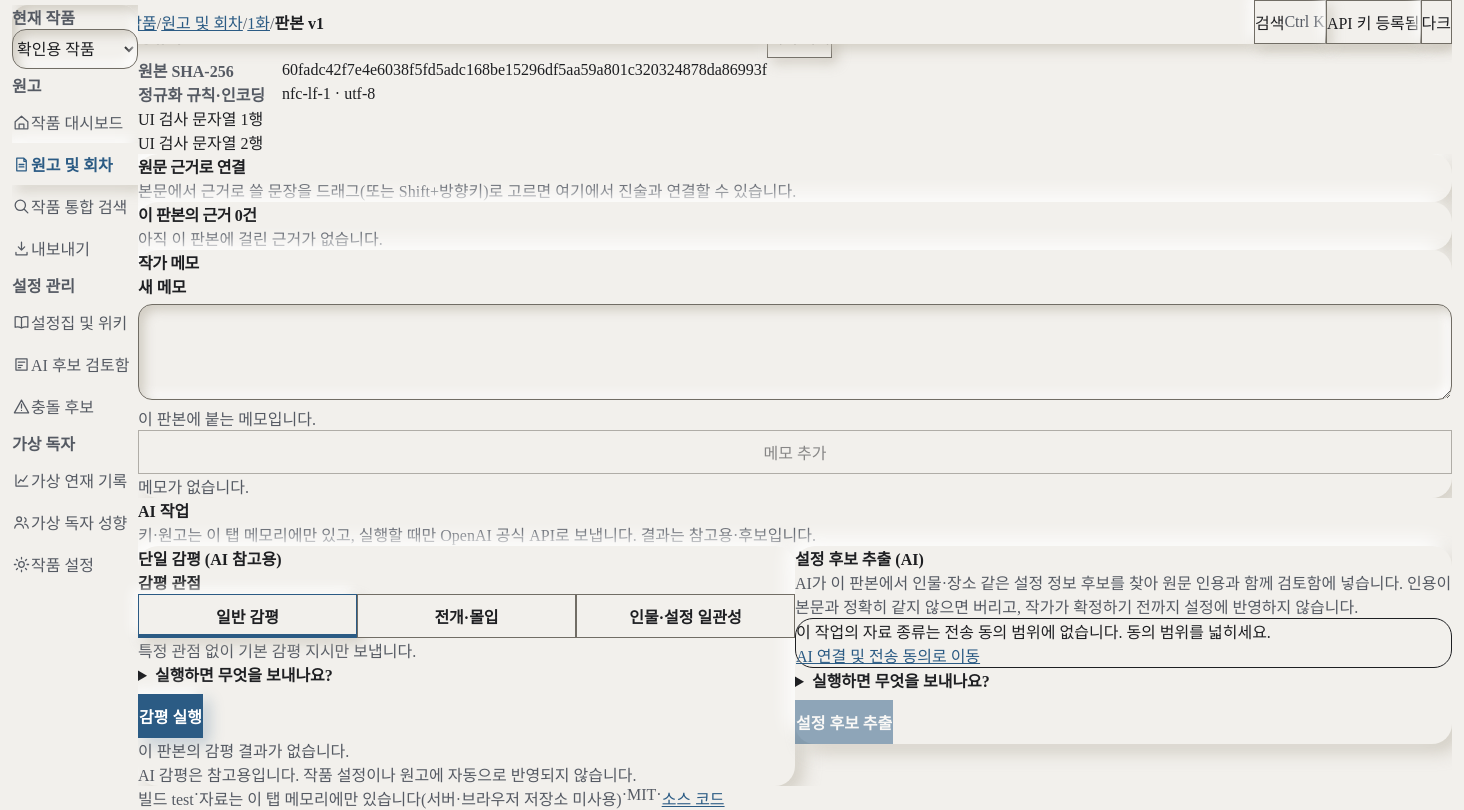
앱 쉘·라우팅 › 판본의 감평 관점을 바꿔 실행하면 선택한 지시를 모의 전송에 한 번만 보낸다
Later steps or results of the test are not shown.
(page scrolled)
Click the radio button labelled "전개·몰입".
click(466, 616)  # box [357,594,576,638]
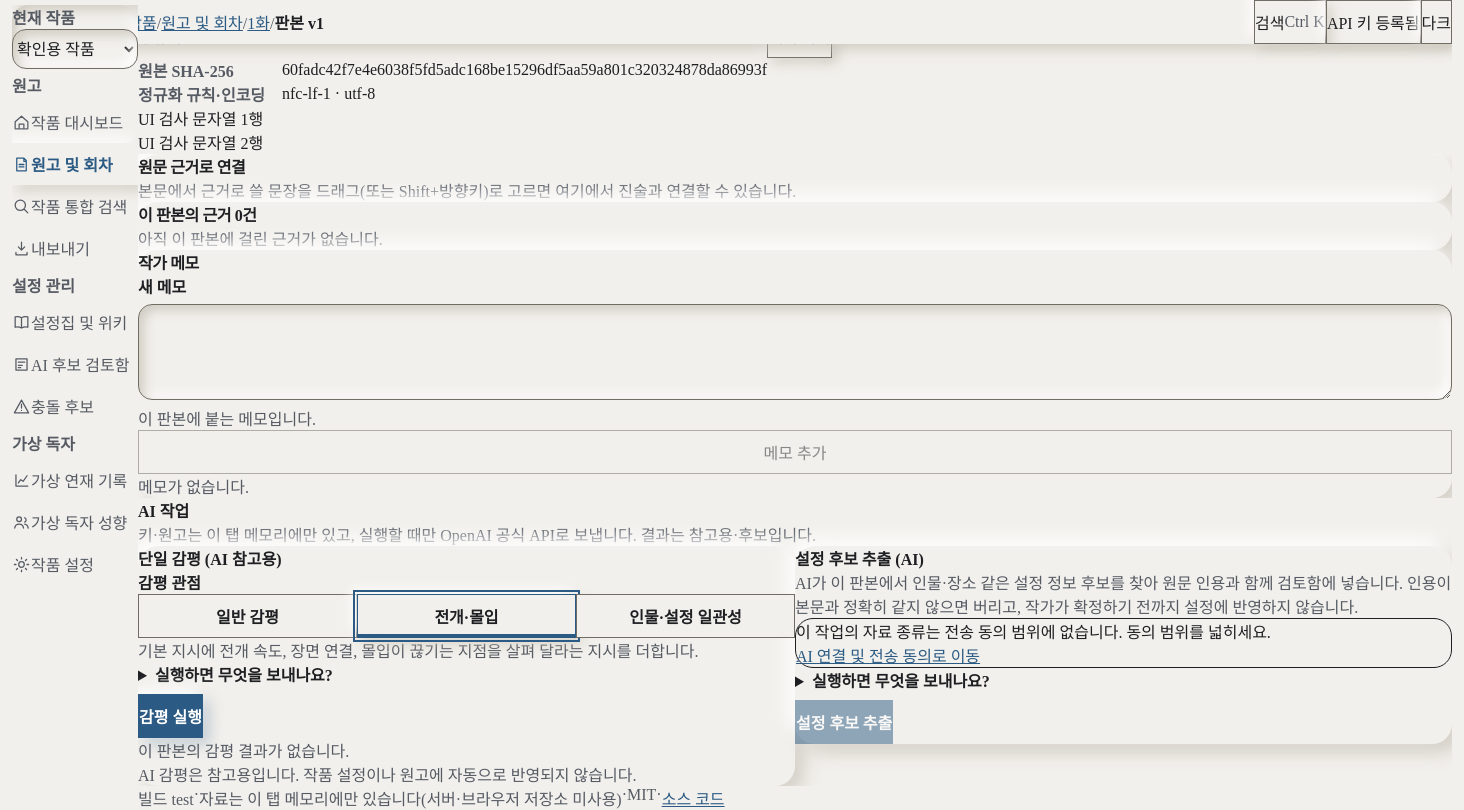
Now the radio button labelled "전개·몰입" is checked, box [357,594,576,638]
Now the text "기본 지시에 전개 속도, 장면 연결, 몰입이 끊기는 지점을 살펴 달라는 지시를 더합니다." is shown, box [138,638,795,662]
